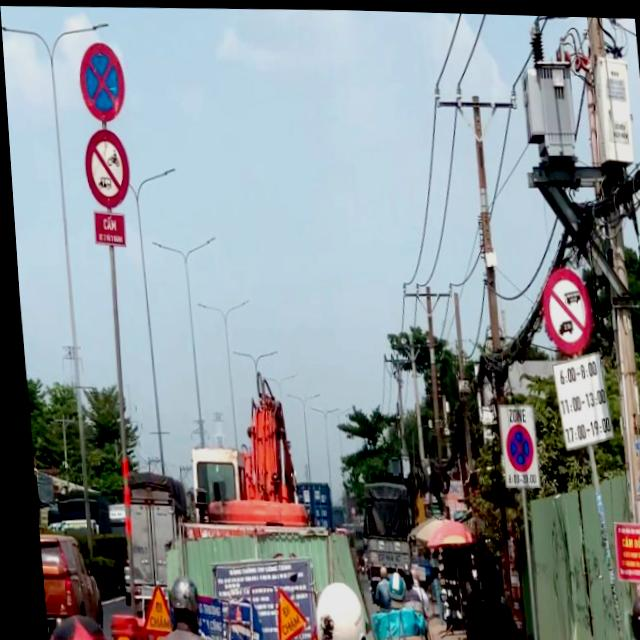Cam dung xe va do xe: (73, 37, 128, 125), (496, 419, 530, 471)
Di cham: (264, 589, 297, 639), (134, 584, 164, 629)
